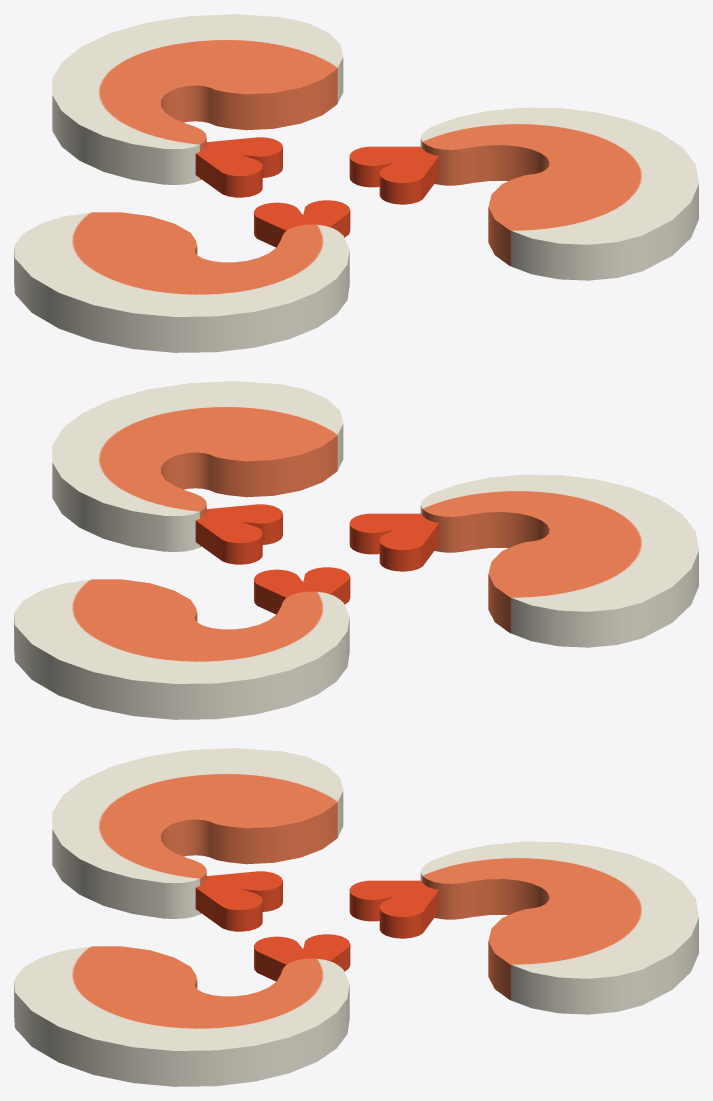
Rendered from Shrimp_Slice.glb.
3 renders of one model, top to bottom at view 1: azimuth 30°, elevation 25°; view 2: azimuth 150°, elevation 25°; view 3: azimuth 270°, elevation 25°, orthographic.
Parts seen in each view (by area): view 1: Shrimp_Slice; view 2: Shrimp_Slice; view 3: Shrimp_Slice.
Boxes of the visible parts, box(x1,y1,x2,y2) form: Shrimp_Slice: box(14, 14, 698, 352); Shrimp_Slice: box(14, 381, 698, 719); Shrimp_Slice: box(14, 748, 698, 1086).
Size of the model in its own units: 18.14 by 1 by 17.34.
1 material, 1 textured.
